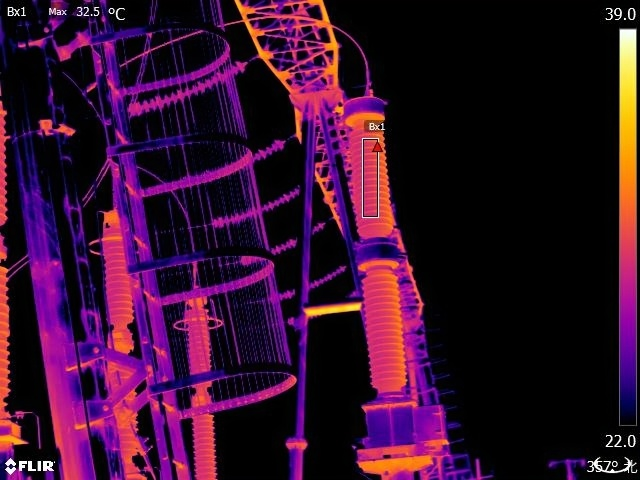insulator: (144, 131, 292, 199), (125, 57, 251, 119), (208, 182, 308, 228), (276, 264, 350, 300), (266, 219, 327, 261)
lightning arrester: (94, 203, 156, 466), (167, 279, 235, 480)
potential transformer: (343, 90, 423, 446)
